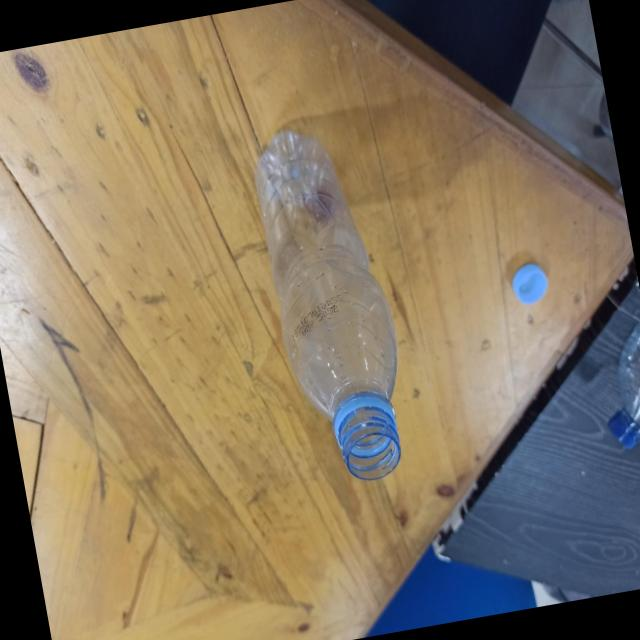BotolPlastik: (244, 116, 420, 494), (566, 311, 640, 502)
